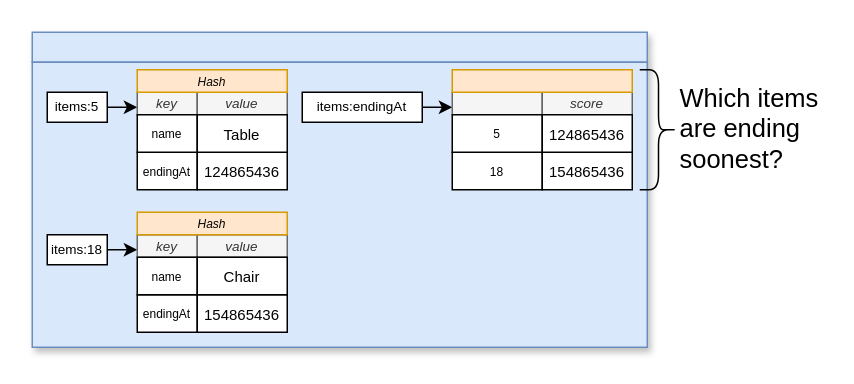
The diagram is 854 pixels wide and 384 high, and some of its shapes have lost their labels. Here are the shapes that lost their labels. From the top down, the centre of each, then its label:
point (340, 49): Redis
point (541, 80): Sorted Set
point (496, 103): member
